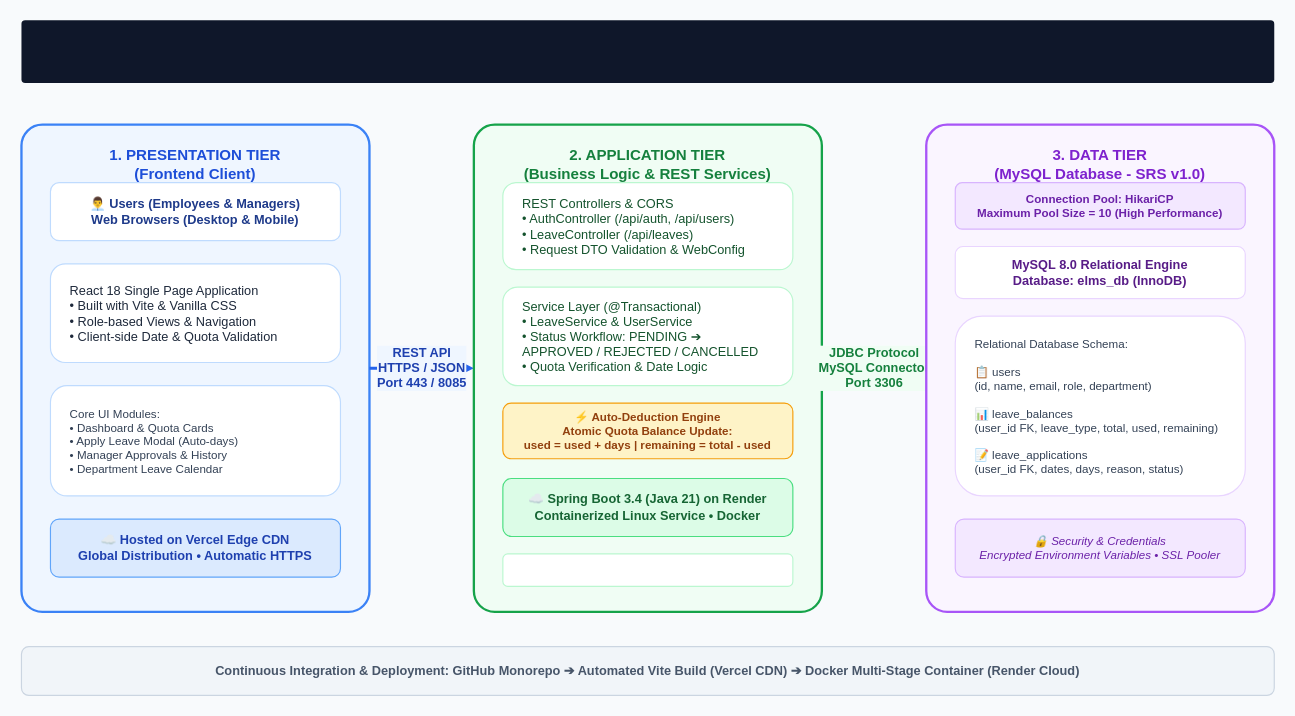
Some shapes in this 1295 by 716 pixel diagram are drawn without their labels. Each missing label, with the centre of its shape:
Data Access: Spring Data JPA / Hibernate ORM: the point at 647,569
EMPLOYEE LEAVE MANAGEMENT SYSTEM (ELMS) High-Level 3-Tier System Architecture: the point at 647,51
